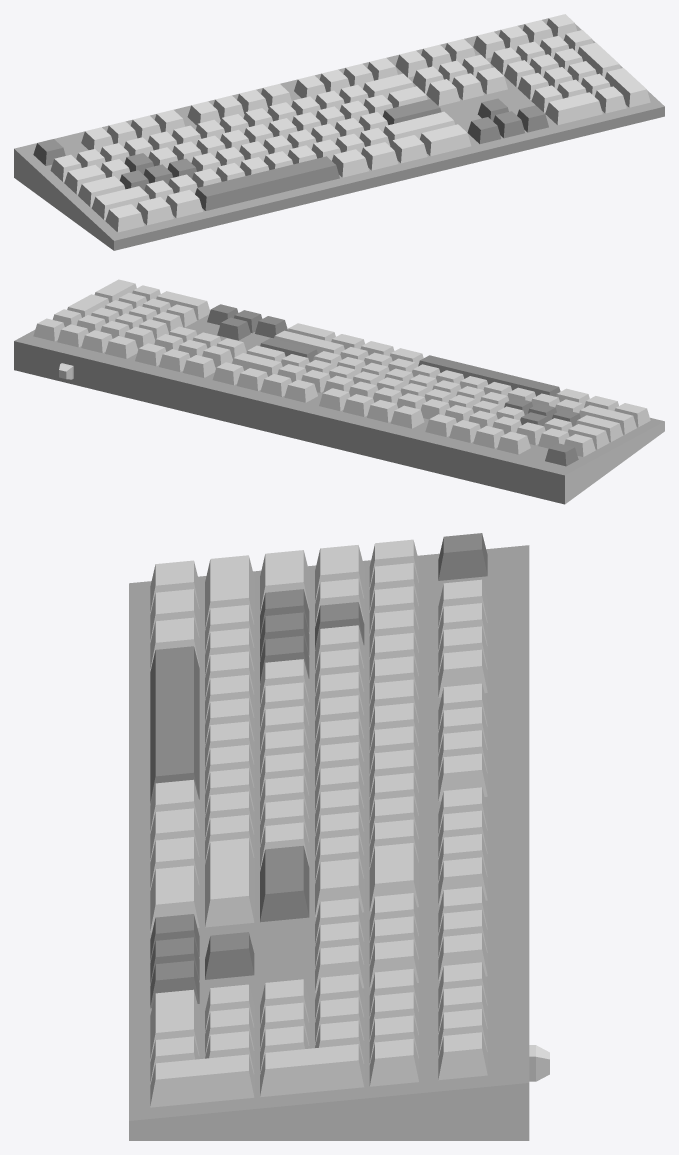
File: PC_Teclador.fbx
3 views of the same model, one above another, from view 1: azimuth 30°, elevation 25°; view 2: azimuth 150°, elevation 25°; view 3: azimuth 270°, elevation 25° (orthographic). The views are drawn at different scales.
Parts seen in each view (by area): view 1: PC_Teclado; view 2: PC_Teclado; view 3: PC_Teclado.
Part boxes in pixels (x1=…): PC_Teclado: x1=14, y1=14, x2=664, y2=250; PC_Teclado: x1=14, y1=279, x2=664, y2=504; PC_Teclado: x1=129, y1=533, x2=549, y2=1140.
Size of the model in its own units: 64.54 by 4.9 by 21.35.
